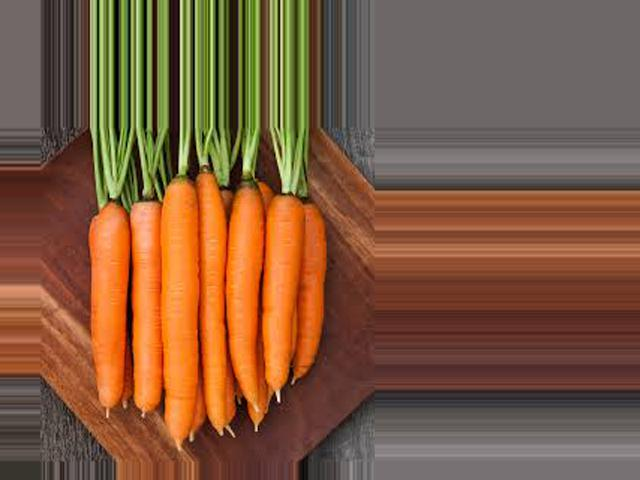carrot: (286, 196, 340, 403)
